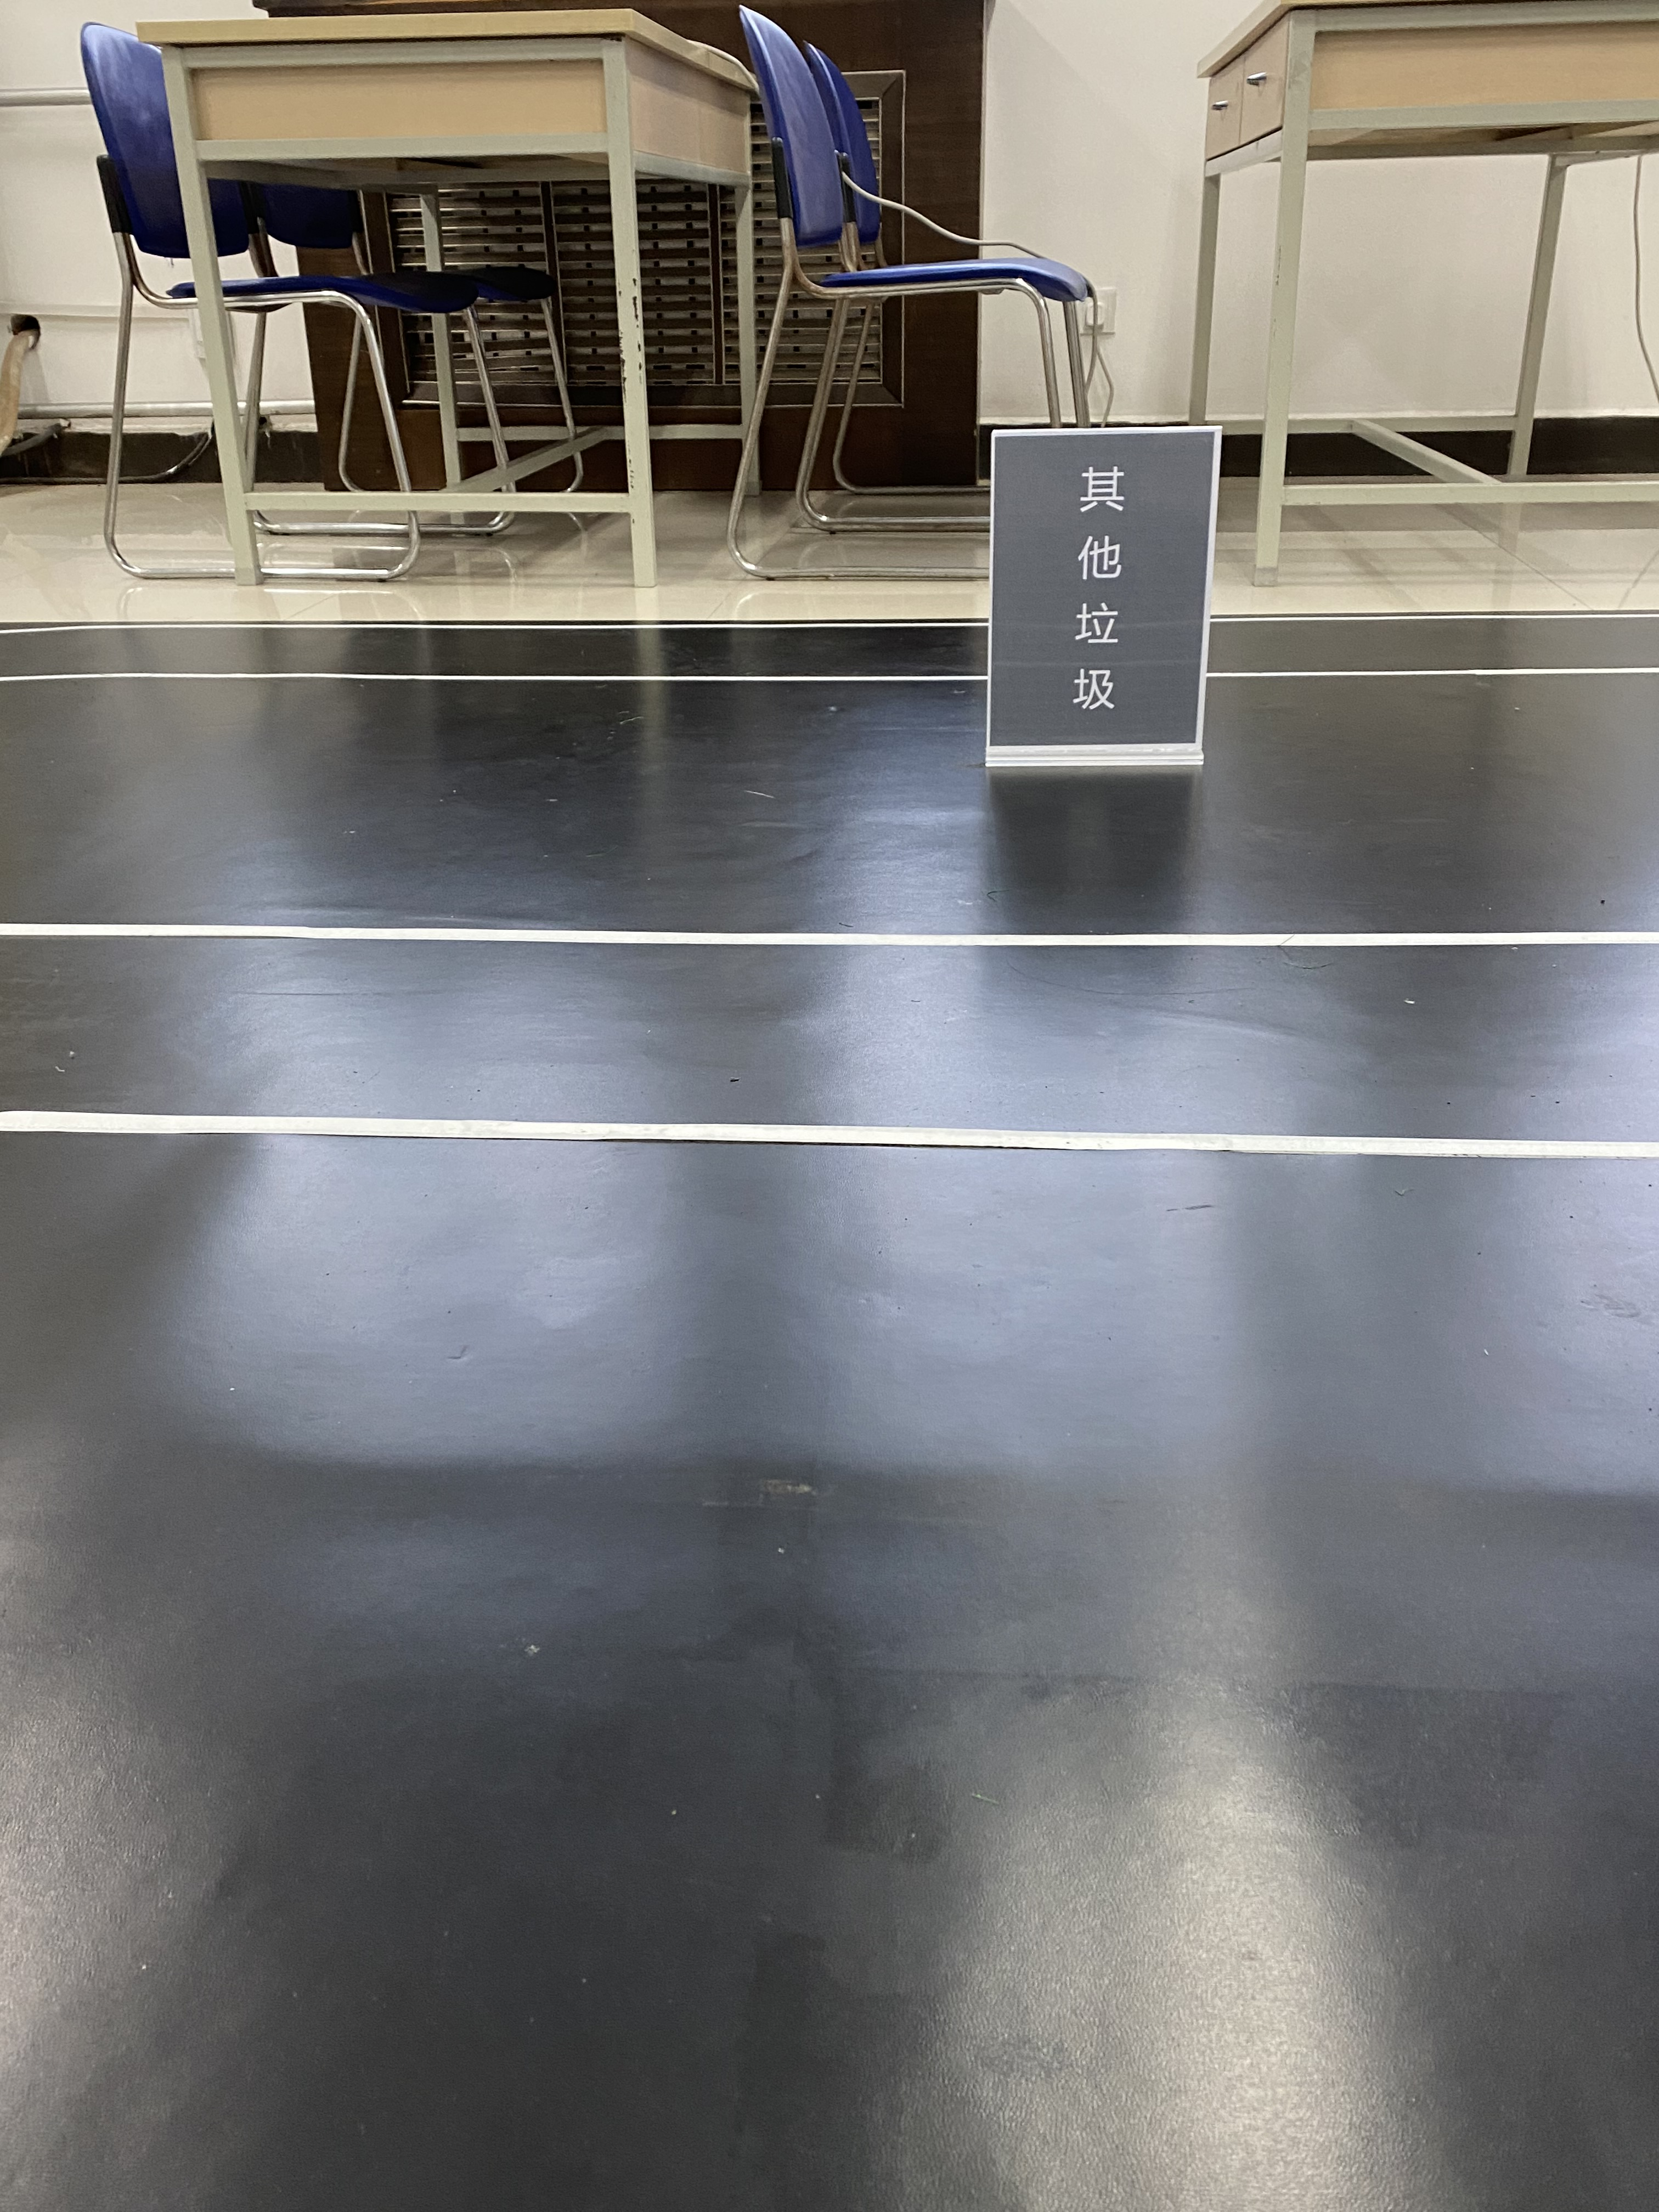black: (1006, 439, 1194, 735)
